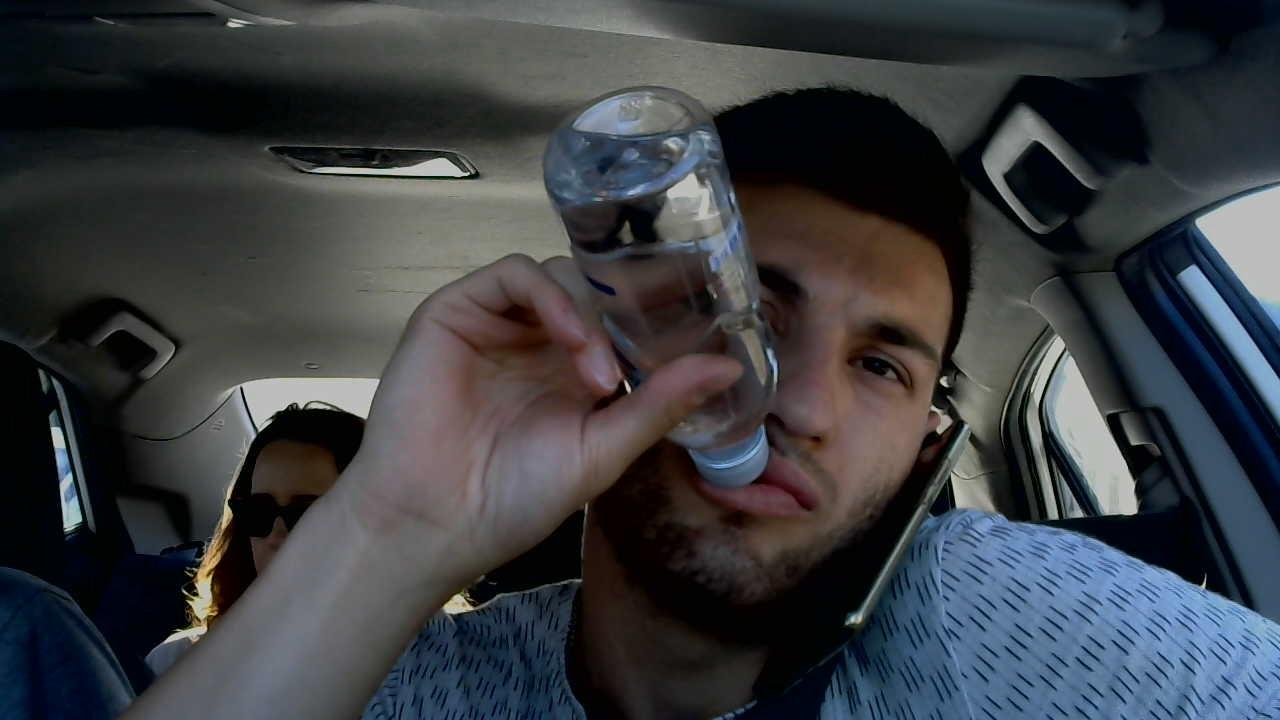Drinking: (512, 86, 935, 604)
